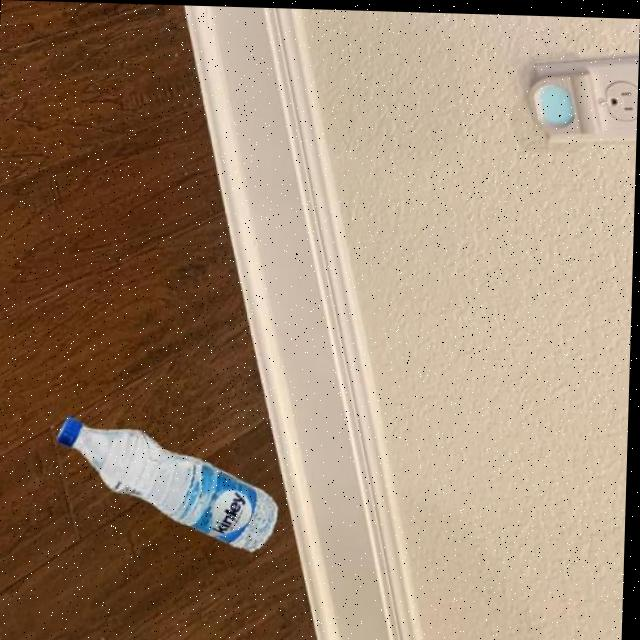bottle: (54, 414, 285, 552)
